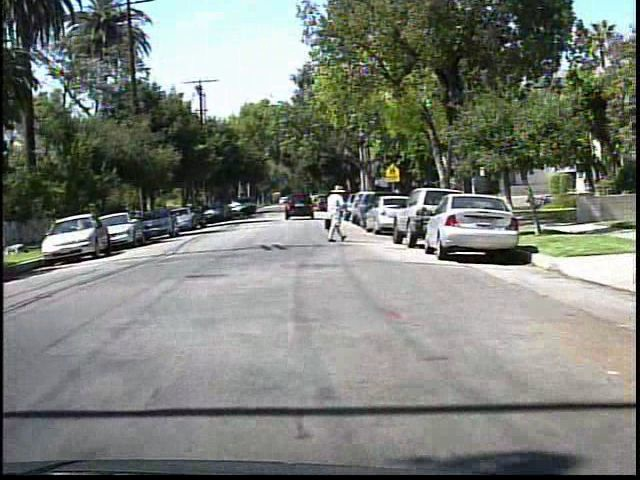person: (320, 184, 352, 245)
